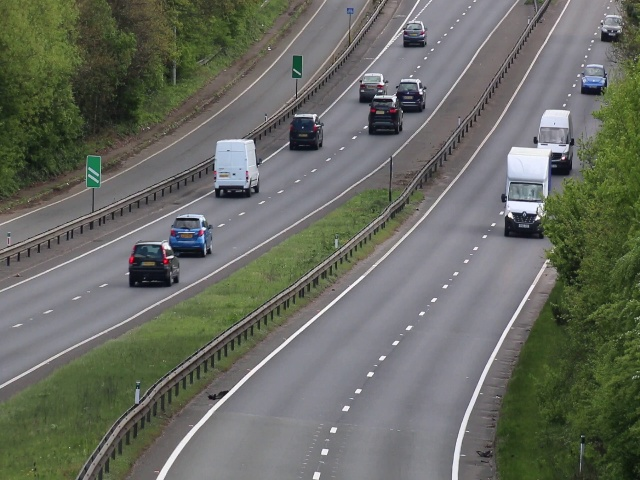car: (502, 148, 548, 239), (213, 137, 261, 198), (127, 239, 180, 290), (536, 106, 575, 175), (168, 213, 213, 258), (368, 95, 404, 136), (288, 110, 324, 151), (394, 79, 428, 112), (579, 62, 608, 96), (358, 70, 386, 103), (401, 19, 429, 48), (601, 13, 623, 43)
